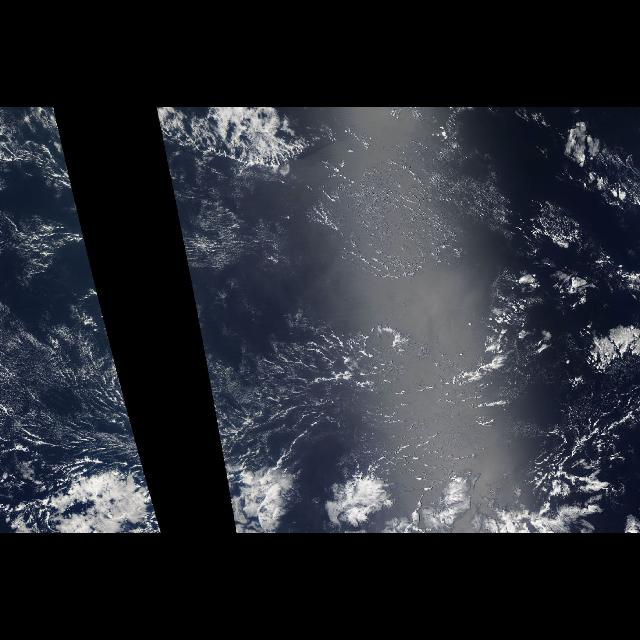Flower: (221, 451, 609, 533)
Sugar: (165, 149, 509, 465), (0, 208, 142, 466)
